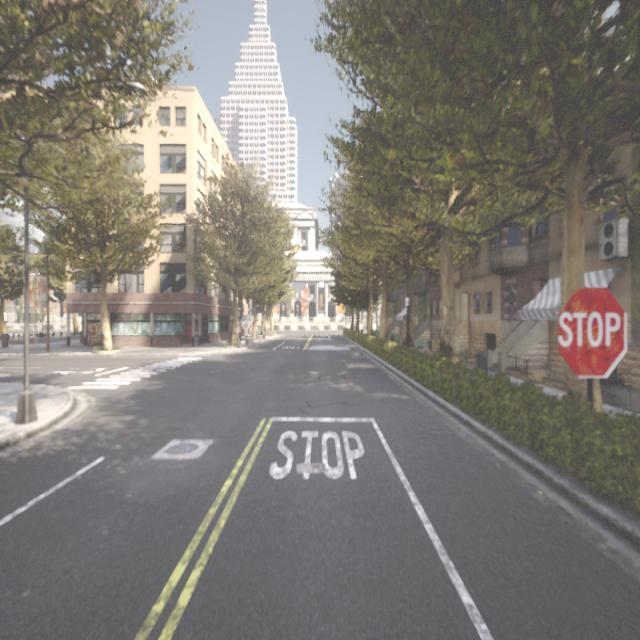stop sign: (554, 282, 628, 380), (556, 308, 622, 350)
